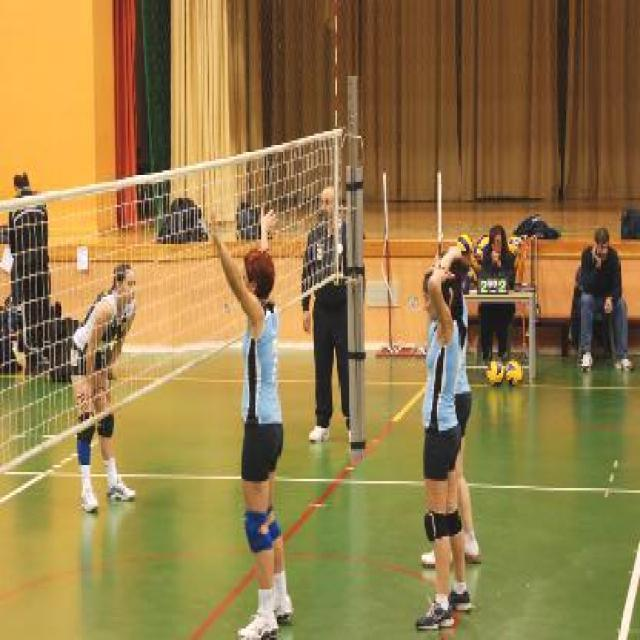volleyball: (483, 360, 502, 387), (505, 361, 524, 386), (456, 235, 474, 256), (506, 236, 521, 254), (470, 248, 482, 268), (468, 266, 478, 288), (478, 234, 490, 248)
